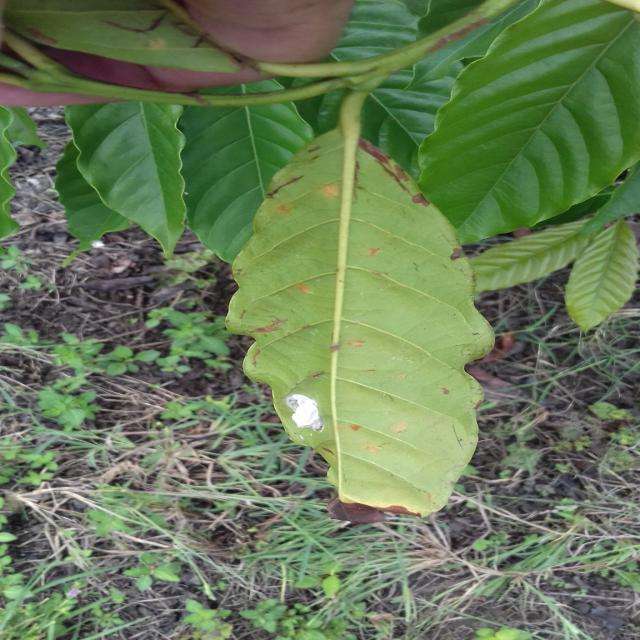Enfermedad-Roya: (227, 125, 497, 519)
